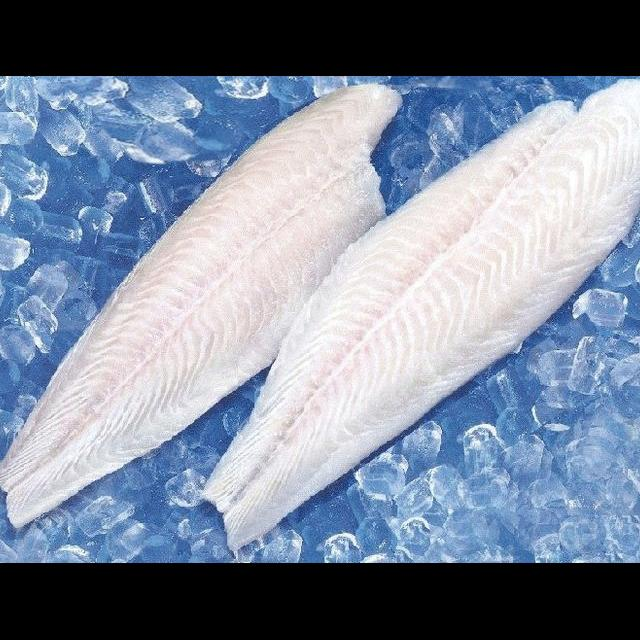fish: (192, 76, 640, 560), (0, 76, 421, 539)
